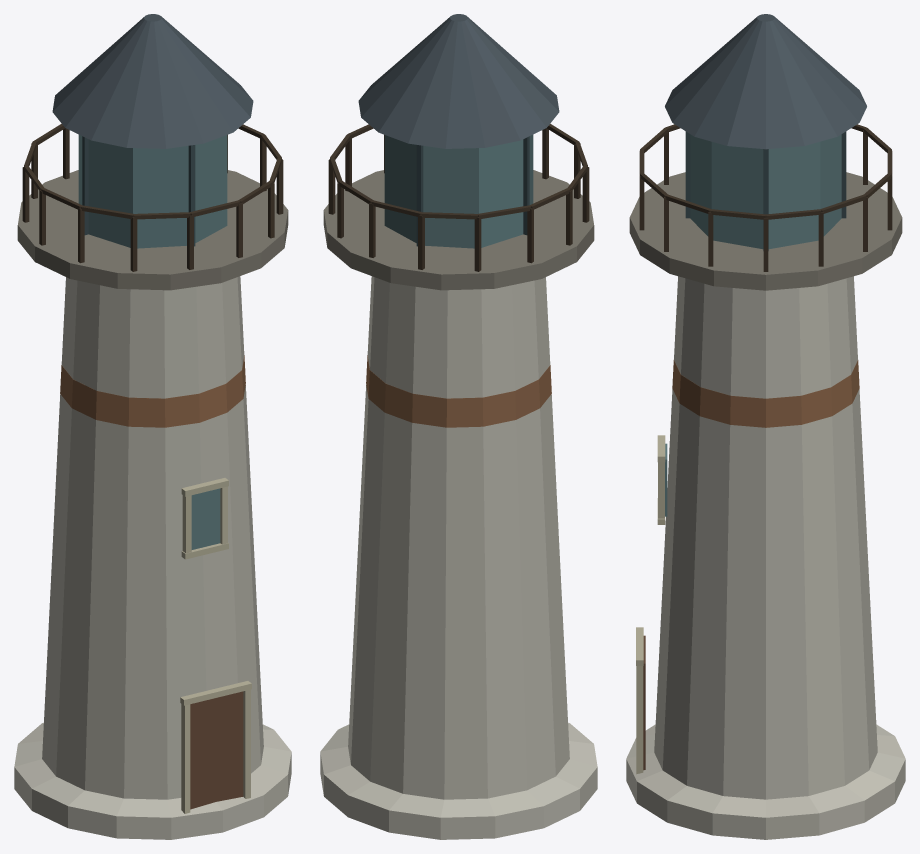
The model's file is Building_Landmark_Lighthouse_001_LOD1.glb.
The picture shows the model from 3 angles, left to right: view 1: azimuth 30°, elevation 25°; view 2: azimuth 150°, elevation 25°; view 3: azimuth 270°, elevation 25°; orthographic projection.
Parts seen in each view (by area): view 1: Building_Landmark_Lighthouse_001_LOD1; view 2: Building_Landmark_Lighthouse_001_LOD1; view 3: Building_Landmark_Lighthouse_001_LOD1.
Boxes of the visible parts, box(x1,y1,x2,y2) form: Building_Landmark_Lighthouse_001_LOD1: box(14, 14, 291, 839); Building_Landmark_Lighthouse_001_LOD1: box(320, 14, 597, 839); Building_Landmark_Lighthouse_001_LOD1: box(626, 14, 905, 839).
Bounding box in the file's own units: 4 × 12.05 × 4.
